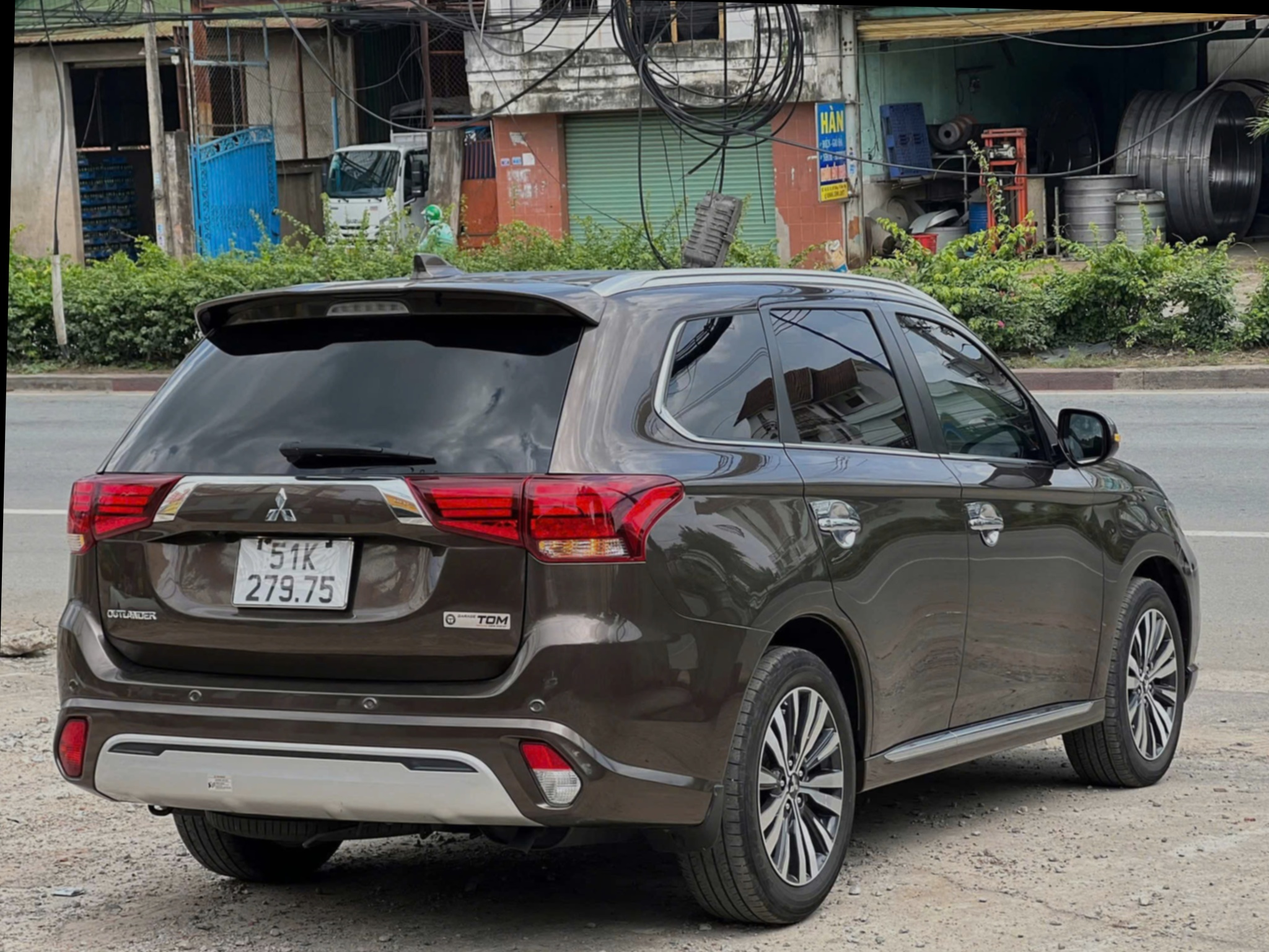Bien-so: (232, 544, 362, 620)
